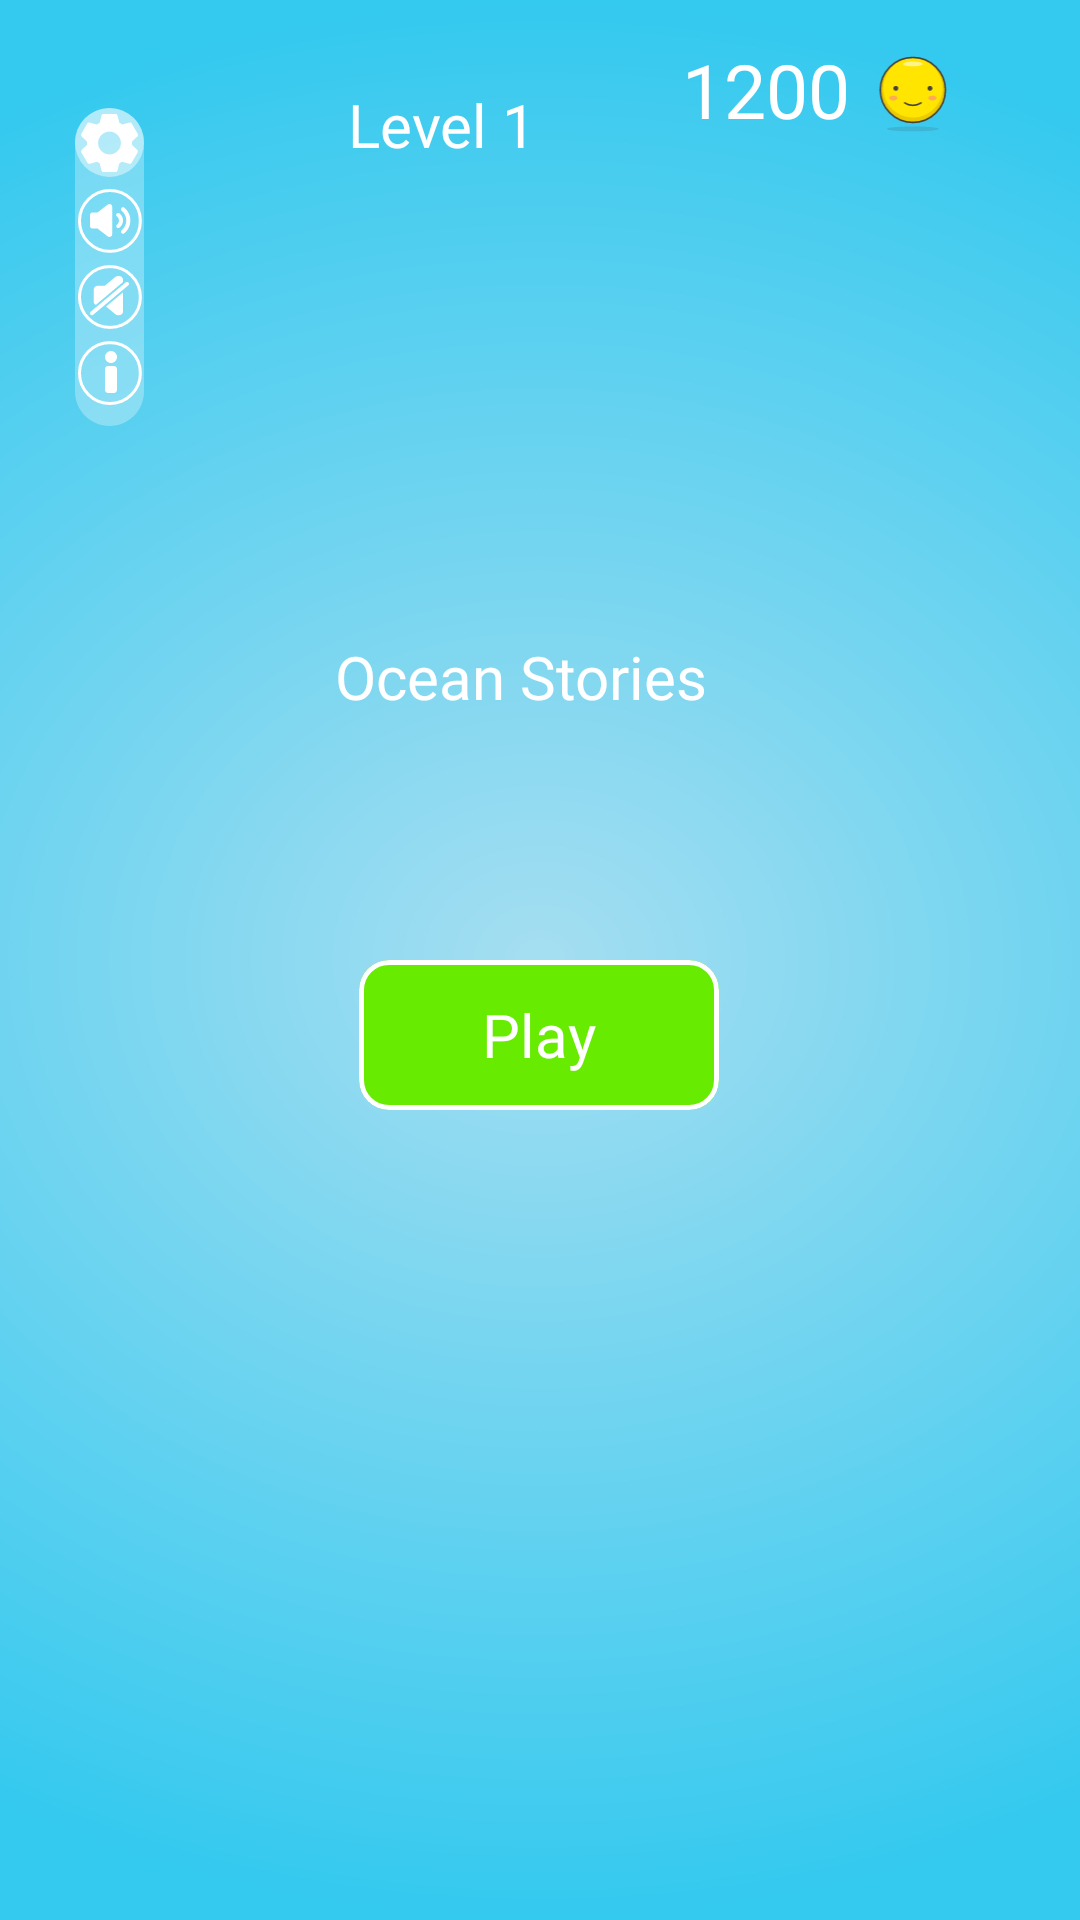

Where icons sit on this 1080 x 1920 app screen, as bbox=[x1, y1, x2, y2]:
settings tab: bbox=[75, 108, 144, 426]
smiley face: bbox=[879, 56, 947, 131]
